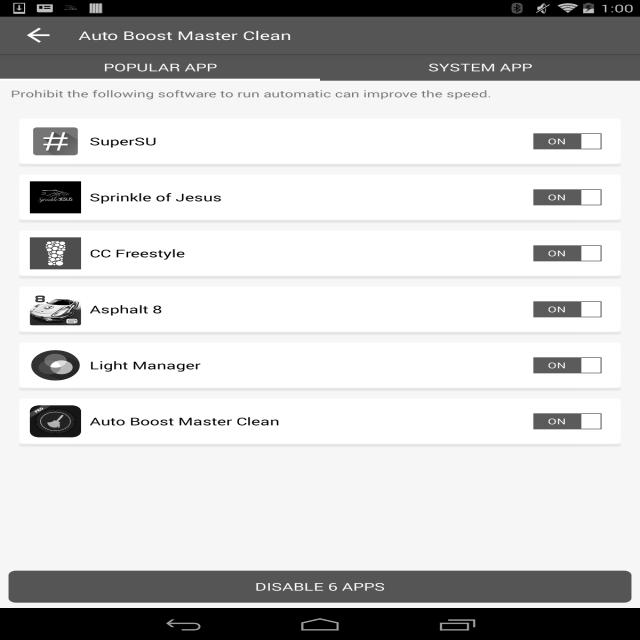Button: (9, 570, 632, 602)
ImageView: (0, 23, 77, 47), (30, 349, 81, 382), (30, 126, 81, 158), (30, 182, 81, 214), (30, 238, 81, 270), (30, 294, 81, 326), (30, 406, 81, 438), (74, 35, 74, 36)
TextView: (0, 54, 320, 81), (320, 54, 640, 81), (11, 87, 629, 100), (90, 134, 533, 148), (90, 190, 533, 204), (90, 246, 533, 260), (90, 302, 533, 316), (90, 358, 533, 372), (90, 414, 533, 428), (78, 27, 292, 43), (533, 134, 602, 150), (533, 190, 602, 206), (533, 246, 602, 262), (533, 302, 602, 318), (533, 358, 602, 373), (533, 414, 602, 429)
